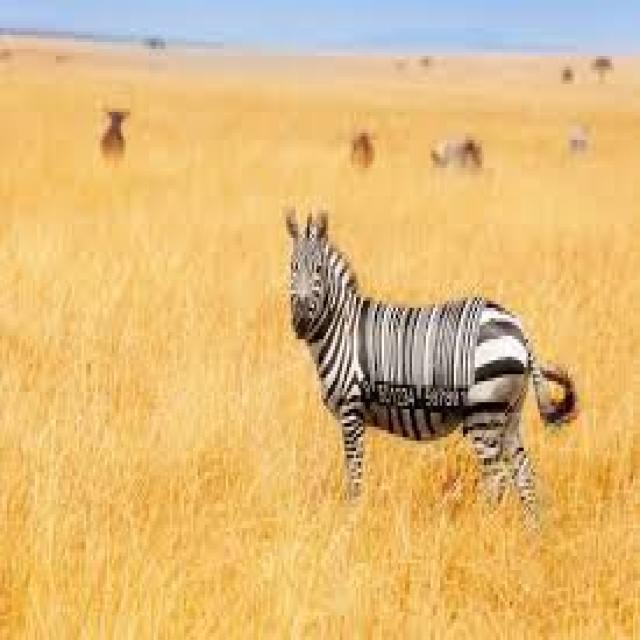Zebra: (281, 213, 557, 513)
